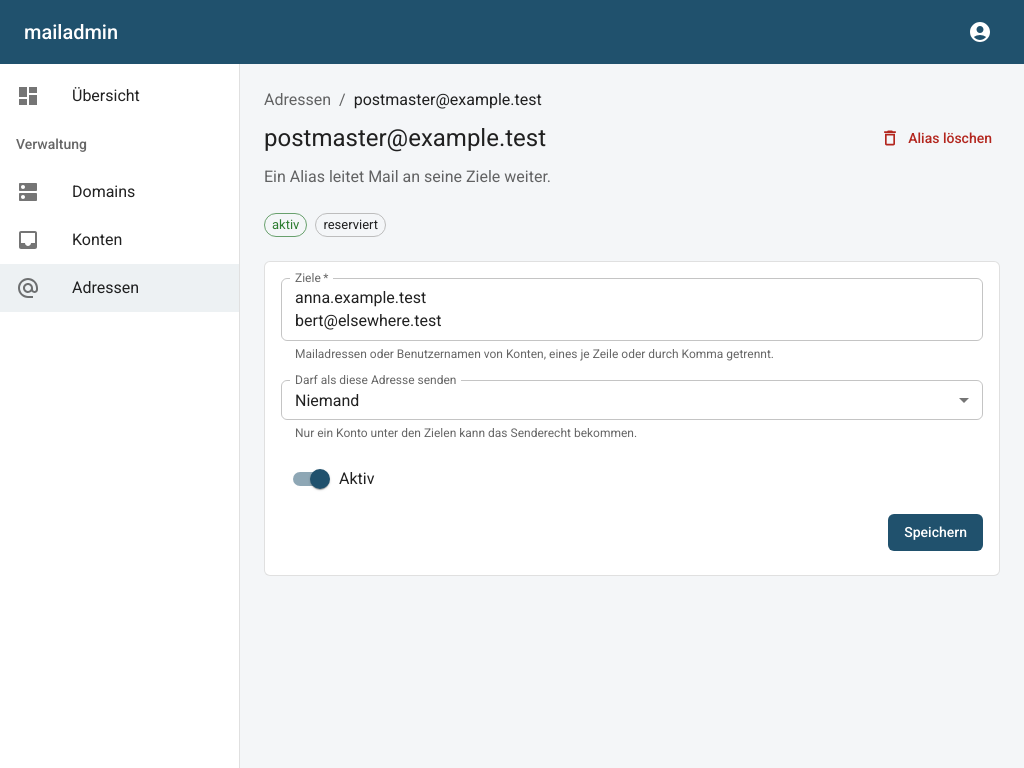
Test: the alias page (A3) › asks before disabling a reserved address and then confirms it explicitly
Step 1. Click the switch labelled "Aktiv" → click(310, 479), box [293,469,374,489]
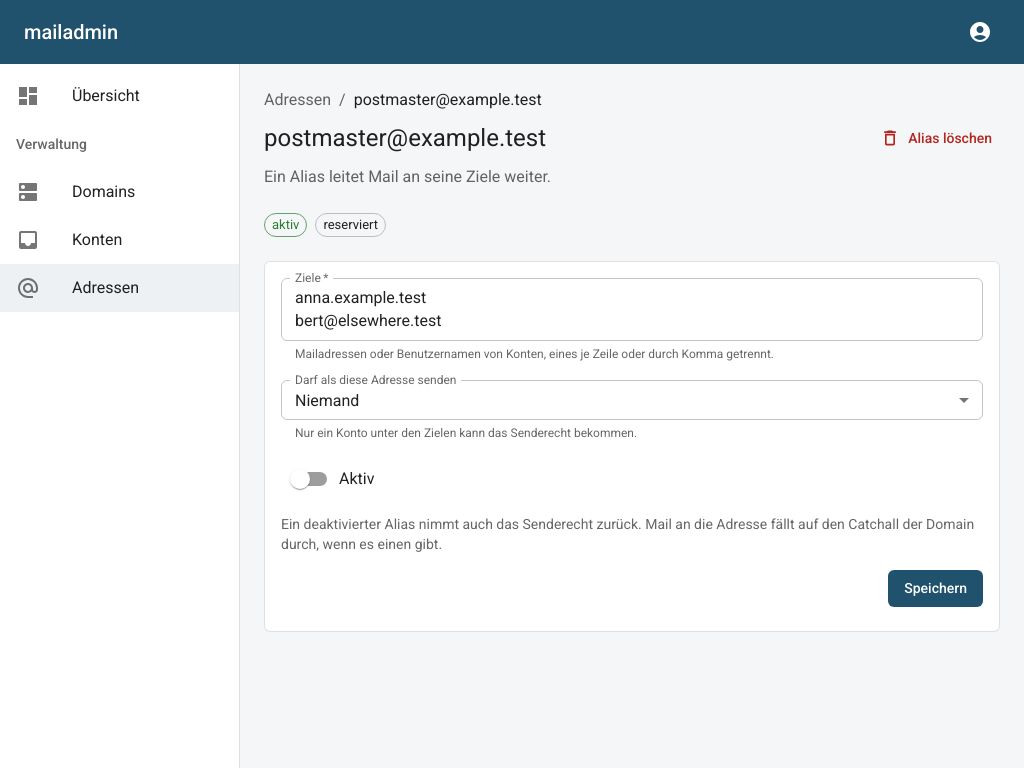
Step 2. Click the button "Speichern" → click(936, 589), box [888,570,983,607]
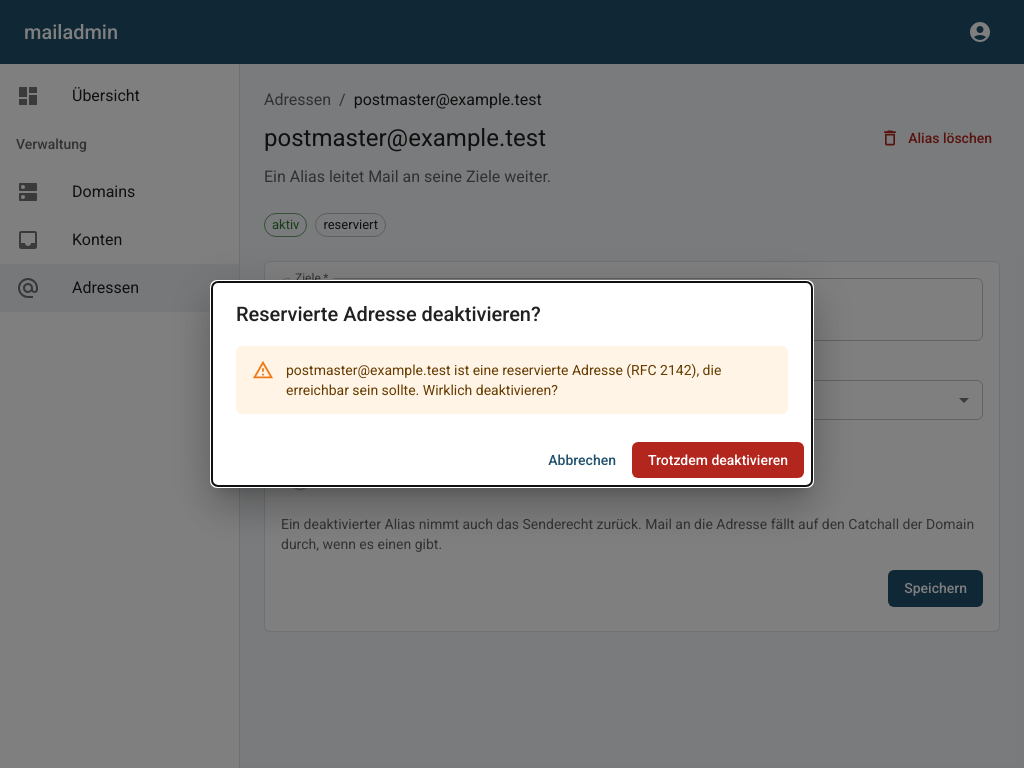
Step 3. Click the button "Trotzdem deaktivieren" → click(718, 460), box [632,442,804,478]
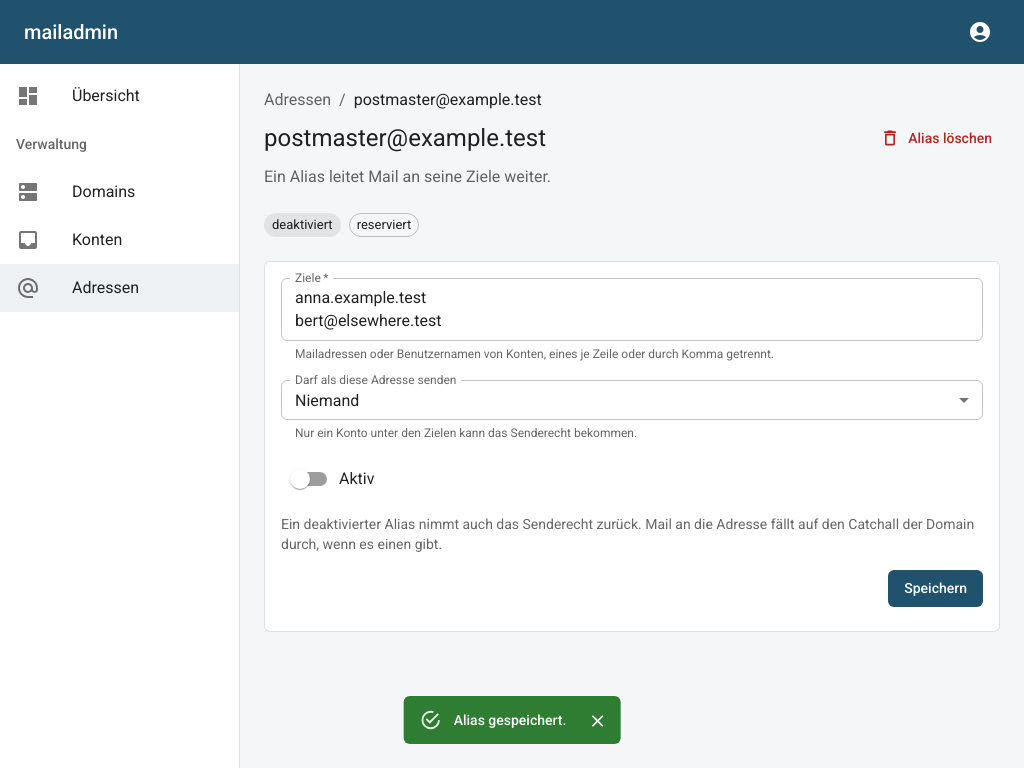
Now the text "Alias gespeichert." is shown, box [454,712,566,728]
